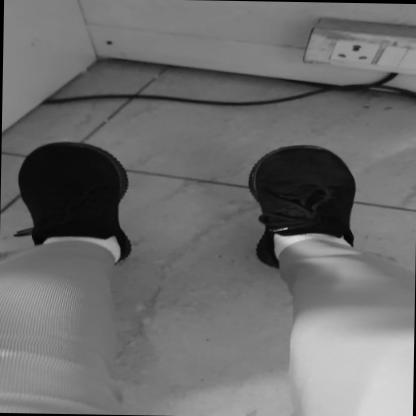ankle: (268, 241, 276, 245), (100, 236, 104, 238)
heel: (121, 256, 125, 258), (272, 262, 276, 264)
left_foot: (249, 145, 357, 271)
pinky: (23, 166, 28, 170), (344, 172, 348, 174)
right_foot: (17, 142, 134, 266)
toe: (95, 159, 103, 163), (271, 159, 277, 161)
